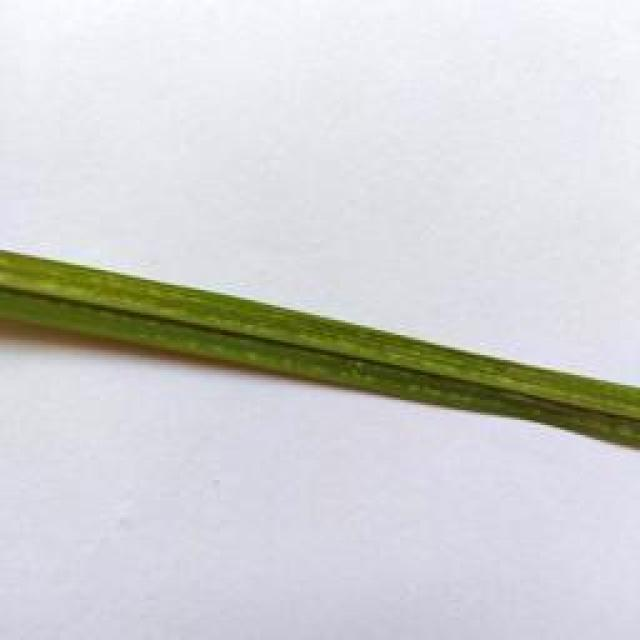Healthy-Plant: (0, 239, 640, 470)
